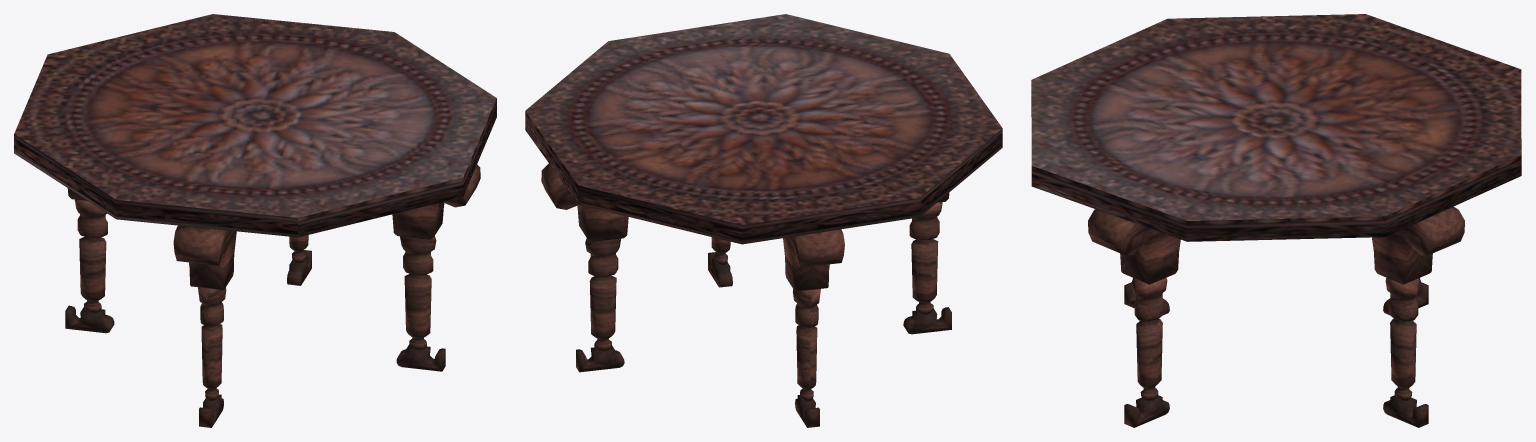
Rendered from Table.fbx.
The picture shows the model from 3 angles, left to right: view 1: azimuth 30°, elevation 25°; view 2: azimuth 150°, elevation 25°; view 3: azimuth 270°, elevation 25°; orthographic projection. The views are drawn at different scales.
Visible parts, largest first — view 1: Table; view 2: Table; view 3: Table.
Part boxes in pixels (<box>): Table: <box>14,14,496,427</box>; Table: <box>525,14,1002,427</box>; Table: <box>1031,14,1521,427</box>.
Size of the model in its own units: 1187 by 658 by 1187.
